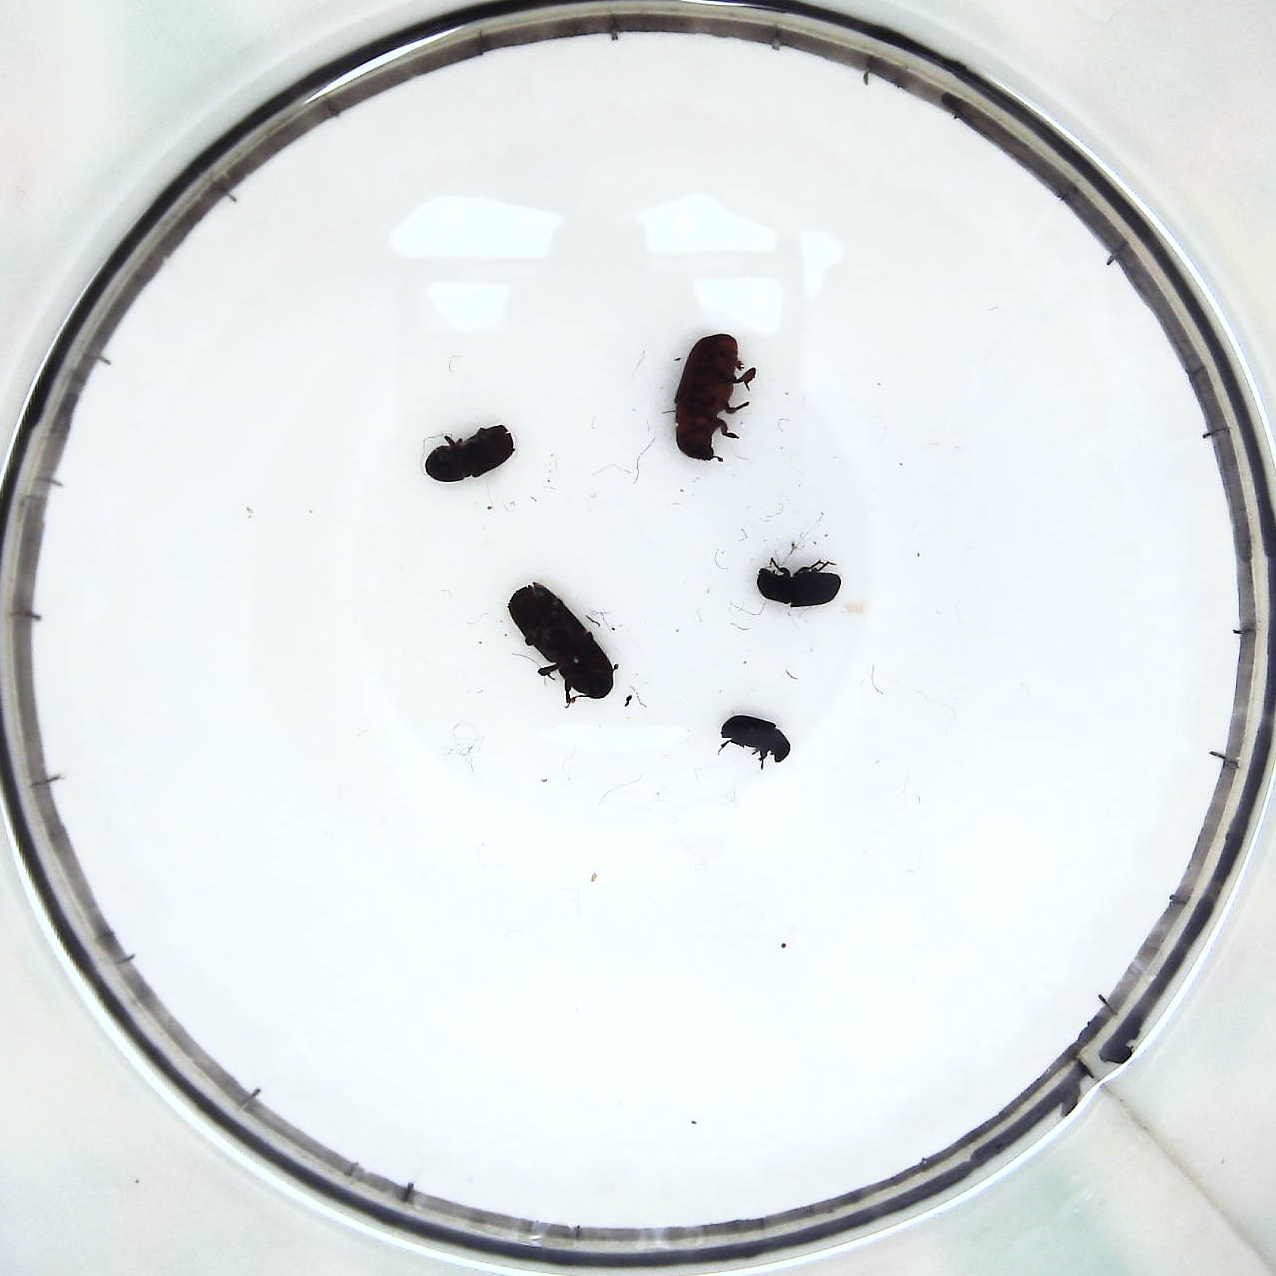Boerner: (508, 580, 613, 703)
Leconte: (674, 331, 756, 463)
Linnaeus: (427, 421, 514, 485)
armandi: (760, 557, 842, 606)
coleoptera: (720, 709, 793, 772)
